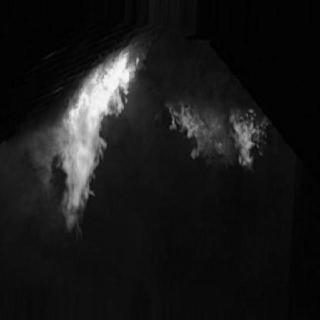Fire: (27, 46, 137, 263), (152, 92, 276, 190)
